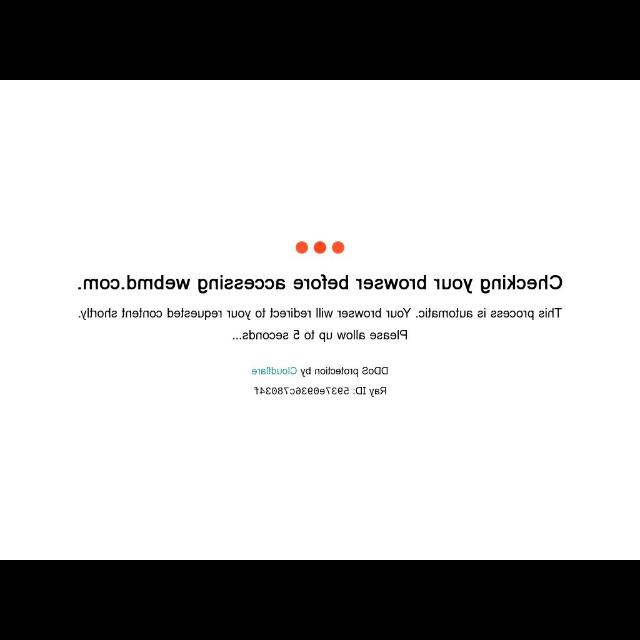image: (294, 240, 346, 256)
text: (76, 307, 562, 343), (75, 272, 565, 290), (250, 364, 390, 378), (250, 386, 388, 396)
